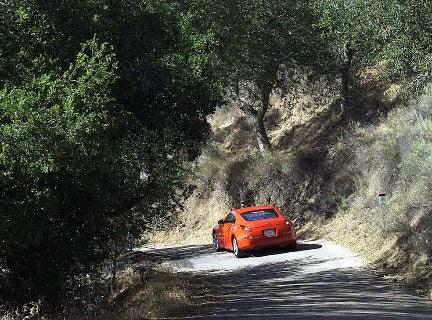日产-350Z: (210, 202, 297, 263)
